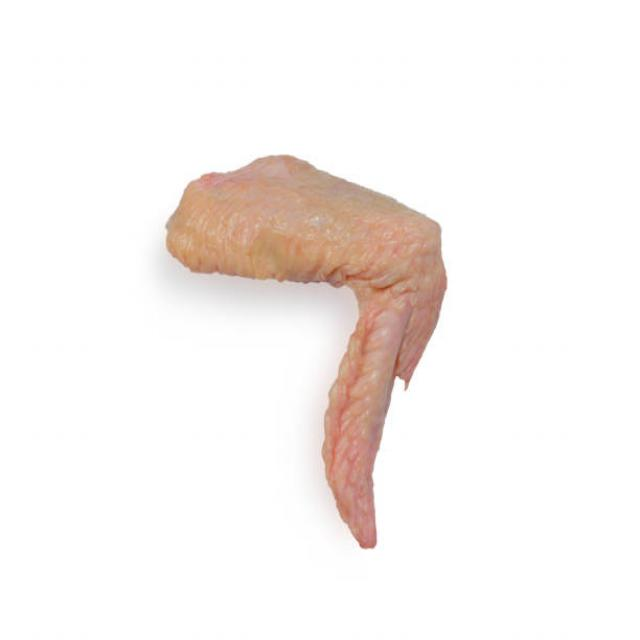Chicken: (158, 142, 456, 570)
